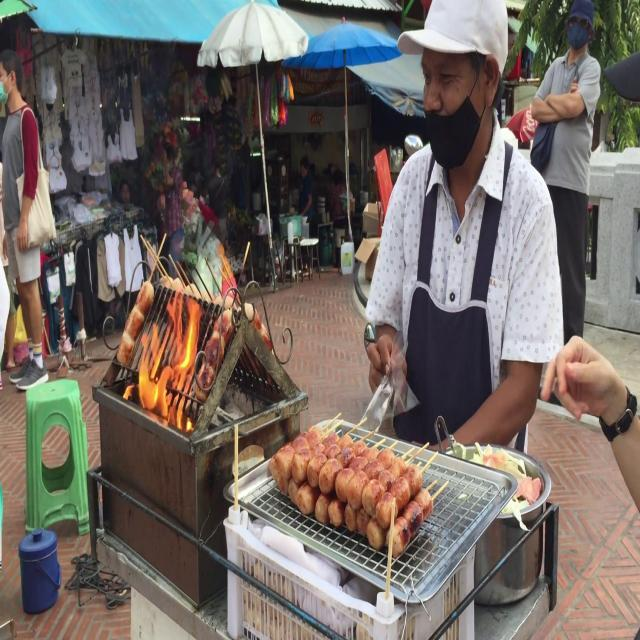Fire: (128, 274, 202, 428)
